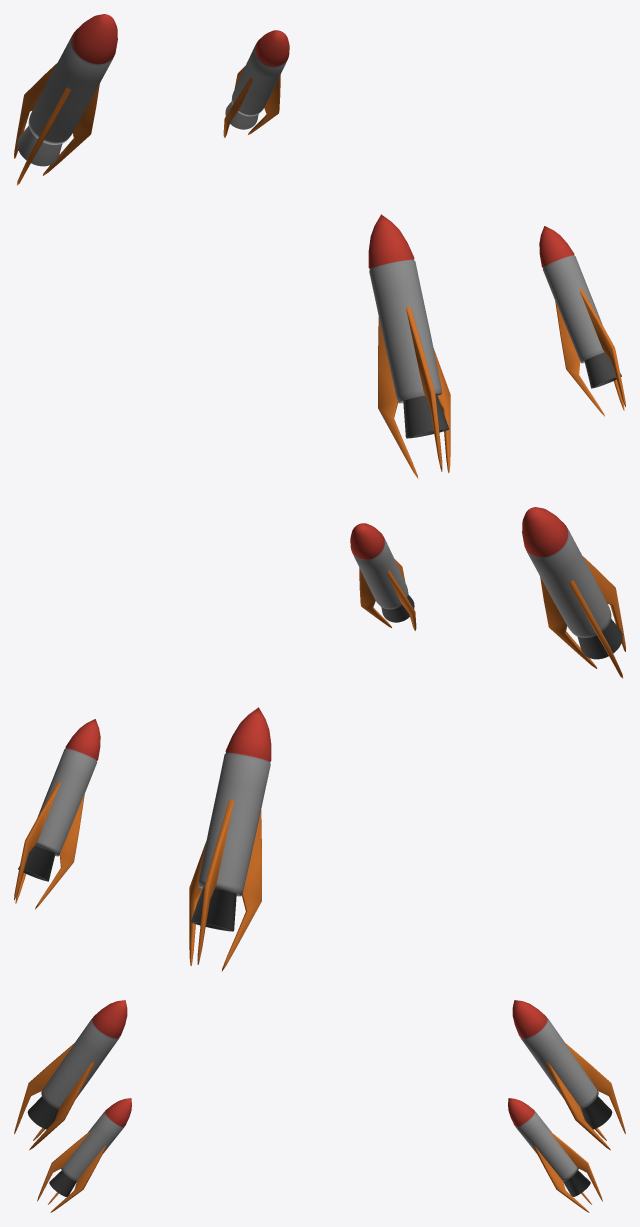
File: rockets.fbx
3 renders of one model, top to bottom at view 1: azimuth 30°, elevation 25°; view 2: azimuth 150°, elevation 25°; view 3: azimuth 270°, elevation 25°, orthographic. The views are drawn at different scales.
Visible parts, largest first — view 1: rocketFrontLeft, rocketFrontRight, rocketBackLeft, rocketBackRight; view 2: rocketFrontRight, rocketFrontLeft, rocketBackRight, rocketBackLeft; view 3: rocketFrontRight, rocketFrontLeft, rocketBackRight, rocketBackLeft.
Part boxes in pixels (x1,y1,x2,y2): rocketFrontLeft: (368,214,450,478); rocketFrontRight: (14,14,117,185); rocketBackLeft: (539,226,625,416); rocketBackRight: (223,30,289,137); rocketFrontRight: (189,707,271,971); rocketFrontLeft: (522,507,625,678); rocketBackRight: (14,719,100,909); rocketBackLeft: (350,523,416,630); rocketFrontRight: (512,1000,625,1150); rocketFrontLeft: (14,1000,127,1150); rocketBackRight: (508,1098,602,1212); rocketBackLeft: (37,1098,131,1212).
Size of the model in its own units: 167 by 139 by 512.
